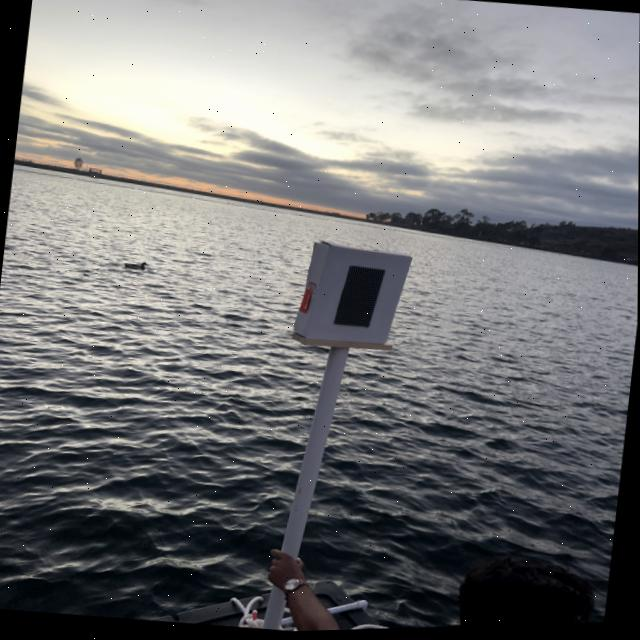led: (321, 249, 397, 355)
